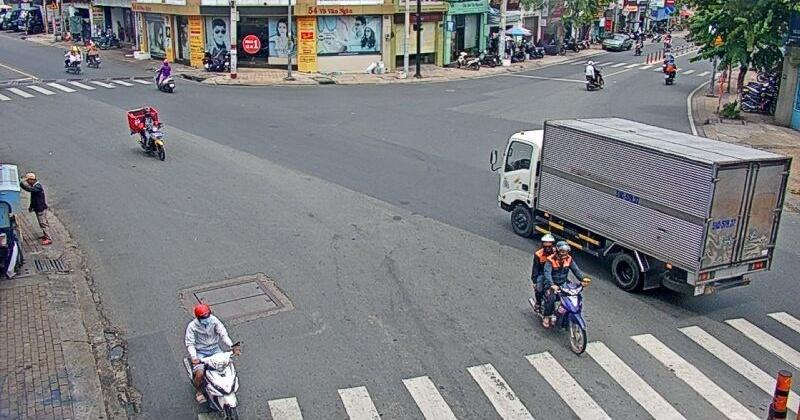xe may: (526, 232, 592, 356), (184, 302, 244, 420), (126, 105, 169, 161), (153, 57, 176, 94), (582, 59, 606, 91)
xe tai: (497, 117, 793, 309)
